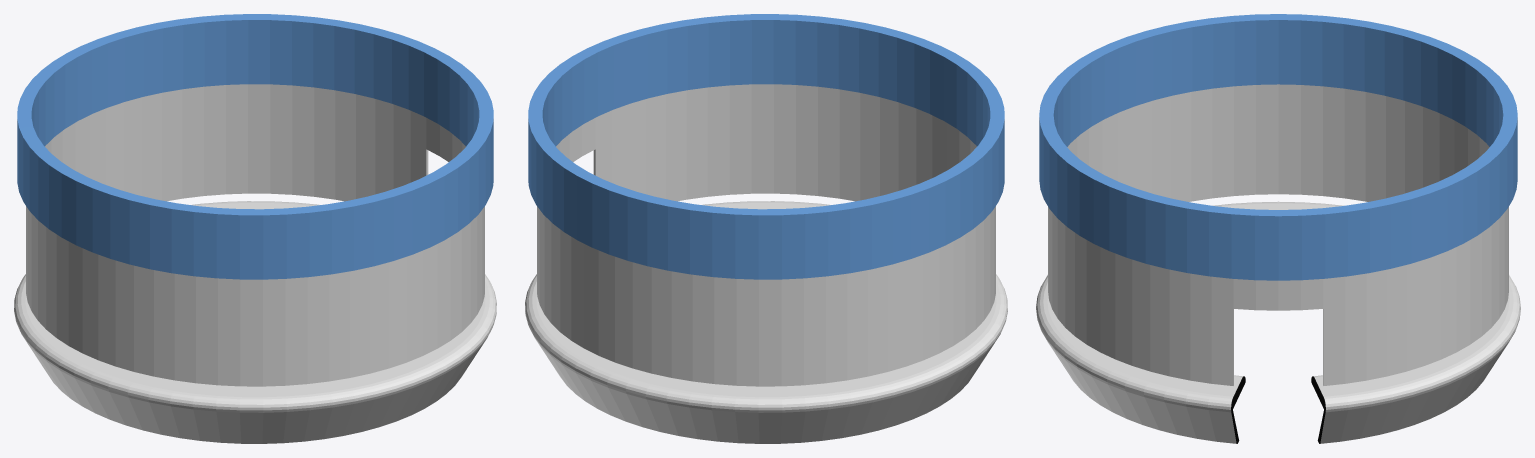
File: BureauRoundtable_01.fbx
3 renders of one model, left to right at view 1: azimuth 30°, elevation 25°; view 2: azimuth 150°, elevation 25°; view 3: azimuth 270°, elevation 25°, orthographic.
Parts seen in each view (by area): view 1: SavetyPanel, RoundTable; view 2: SavetyPanel, RoundTable; view 3: SavetyPanel, RoundTable.
Part boxes in pixels (left/top/right/bottom): SavetyPanel: left=17, top=14, right=493, bottom=386; RoundTable: left=14, top=201, right=496, bottom=443; SavetyPanel: left=528, top=14, right=1004, bottom=386; RoundTable: left=525, top=201, right=1007, bottom=443; SavetyPanel: left=1039, top=14, right=1517, bottom=385; RoundTable: left=1036, top=201, right=1520, bottom=443.
Bounding box in the file's own units: 931 × 513 × 937.
